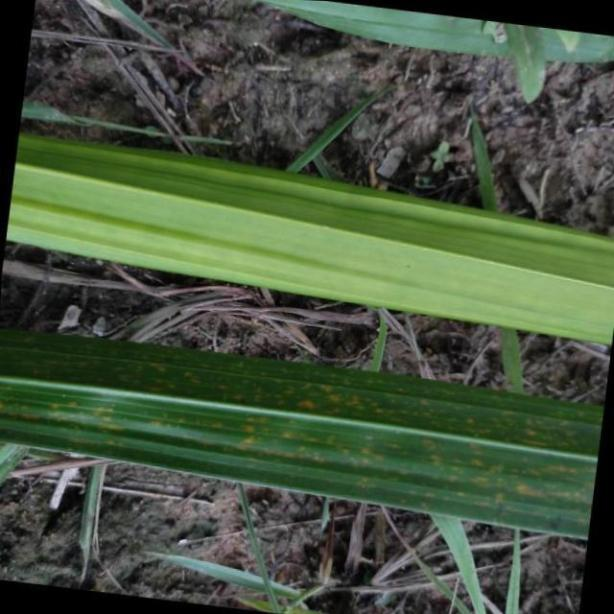nitrogen: (1, 323, 614, 539), (5, 130, 614, 346)
